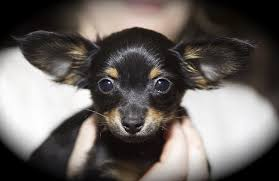chihuahua: (12, 24, 274, 156)
